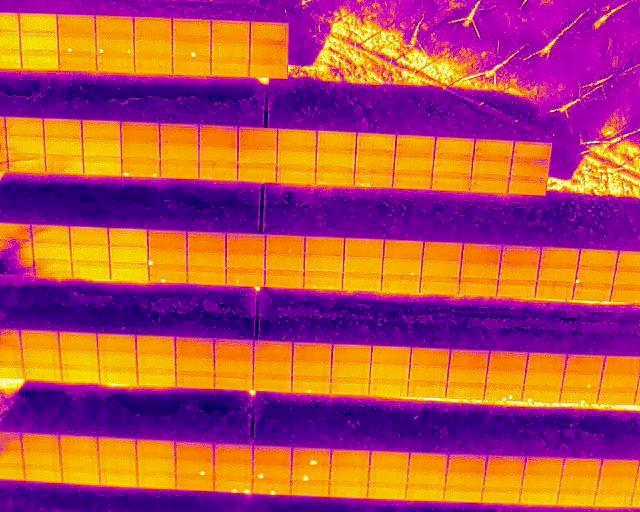Cell: (173, 36, 212, 57), (58, 35, 97, 53), (575, 267, 616, 284), (382, 259, 421, 276), (292, 449, 331, 466), (147, 250, 188, 266), (149, 266, 187, 283), (563, 371, 602, 387), (292, 376, 330, 392), (175, 460, 213, 476), (253, 463, 291, 479), (226, 270, 265, 285), (291, 466, 330, 481), (523, 385, 560, 400), (560, 388, 598, 402), (253, 480, 290, 494)
Cell-Multi: (96, 36, 134, 55), (304, 273, 343, 290), (122, 162, 159, 178), (483, 385, 522, 400), (215, 477, 252, 492), (354, 175, 393, 187)
No-Anomaly: (82, 140, 122, 164), (304, 236, 344, 257), (44, 139, 83, 160), (463, 243, 502, 264), (160, 126, 200, 146), (394, 155, 434, 175), (18, 13, 58, 33), (240, 130, 278, 151), (502, 245, 540, 266), (120, 123, 159, 143), (276, 151, 315, 171), (266, 234, 305, 254), (96, 15, 135, 35), (424, 242, 463, 262), (70, 226, 109, 246), (146, 230, 187, 249), (200, 129, 238, 149), (355, 135, 395, 154), (395, 136, 435, 155), (6, 137, 46, 156), (474, 141, 512, 161), (238, 150, 276, 170), (317, 152, 355, 172), (226, 233, 266, 252), (58, 14, 96, 34), (355, 155, 395, 174), (578, 249, 618, 268), (134, 55, 174, 74), (175, 336, 214, 355), (20, 33, 59, 52), (187, 232, 226, 251), (434, 157, 473, 176), (384, 240, 423, 259), (540, 248, 579, 267), (134, 17, 173, 36), (343, 257, 382, 276), (250, 58, 287, 78), (160, 147, 201, 165), (344, 239, 385, 257), (134, 36, 172, 55), (5, 118, 43, 137), (44, 120, 82, 139), (82, 123, 120, 142), (316, 133, 354, 152), (122, 143, 160, 162), (409, 452, 447, 471), (108, 229, 148, 247), (210, 39, 250, 57), (436, 140, 473, 159), (201, 149, 238, 168), (277, 133, 316, 151), (253, 340, 292, 358), (329, 481, 368, 499), (109, 247, 148, 265), (34, 260, 73, 278), (71, 261, 110, 279), (370, 451, 409, 469), (448, 455, 487, 473), (21, 53, 60, 71), (59, 54, 98, 72), (174, 57, 213, 75), (211, 58, 250, 76), (264, 254, 305, 271), (422, 261, 463, 278), (330, 450, 371, 467), (333, 343, 371, 361), (253, 446, 291, 464), (265, 271, 303, 289), (525, 457, 563, 475), (97, 55, 135, 73), (175, 354, 215, 371), (409, 364, 449, 381), (20, 434, 60, 451), (471, 177, 511, 194), (471, 161, 511, 178), (305, 256, 345, 273), (460, 263, 500, 280), (382, 276, 422, 293), (597, 388, 639, 404), (460, 279, 497, 297), (250, 40, 287, 58), (510, 177, 547, 195), (212, 21, 251, 38), (136, 335, 175, 352), (371, 345, 410, 362), (450, 348, 489, 365), (370, 362, 409, 379), (291, 480, 330, 497), (136, 470, 175, 487), (485, 473, 524, 490), (32, 244, 73, 260), (293, 342, 331, 359), (528, 352, 566, 369), (176, 443, 214, 460), (99, 468, 137, 485), (187, 251, 225, 268), (173, 18, 211, 35), (486, 457, 524, 474), (448, 366, 488, 382), (213, 445, 253, 461), (70, 246, 110, 262), (536, 267, 576, 283), (514, 143, 551, 160), (535, 283, 572, 300), (22, 332, 59, 349), (60, 333, 97, 350), (99, 334, 136, 351), (215, 340, 252, 357), (566, 354, 603, 371), (602, 370, 639, 387), (501, 264, 538, 281), (601, 459, 638, 476), (564, 458, 601, 475), (497, 282, 536, 298), (411, 348, 450, 364), (254, 358, 293, 374), (293, 359, 332, 375), (332, 361, 371, 377), (486, 368, 525, 384), (526, 369, 565, 385), (214, 373, 253, 389), (408, 380, 447, 396), (60, 436, 99, 452), (431, 177, 470, 193), (98, 453, 137, 469), (421, 278, 460, 294), (20, 451, 61, 466), (63, 364, 99, 381), (111, 264, 147, 281), (574, 284, 612, 300), (61, 349, 99, 365), (215, 357, 253, 373), (137, 369, 175, 385), (331, 378, 369, 394), (61, 468, 99, 484), (482, 487, 520, 503), (407, 483, 445, 499), (226, 254, 266, 269), (187, 269, 227, 284), (250, 23, 287, 39), (138, 353, 175, 369), (370, 379, 407, 395), (23, 466, 60, 482), (489, 352, 528, 367), (176, 371, 215, 386), (137, 440, 176, 455), (393, 175, 432, 190), (160, 164, 199, 179), (604, 355, 640, 371), (61, 451, 97, 467), (22, 349, 60, 364), (99, 351, 137, 366), (99, 367, 137, 382), (98, 438, 136, 453), (523, 475, 561, 490), (45, 160, 83, 175), (137, 456, 175, 471), (368, 483, 406, 498), (597, 476, 635, 491), (512, 161, 547, 177), (343, 276, 383, 290), (445, 485, 482, 500), (253, 374, 292, 388), (561, 476, 600, 490), (445, 470, 484, 484), (559, 491, 598, 505), (213, 463, 252, 477), (329, 467, 368, 481), (447, 383, 485, 397), (520, 490, 558, 504), (370, 468, 408, 482), (277, 170, 315, 184), (407, 471, 447, 484), (24, 365, 61, 379), (239, 170, 276, 184), (315, 172, 352, 185), (177, 476, 213, 489), (595, 492, 631, 505), (83, 164, 121, 176), (201, 169, 237, 181)
Shadowing: (7, 153, 46, 173), (31, 225, 70, 243)
